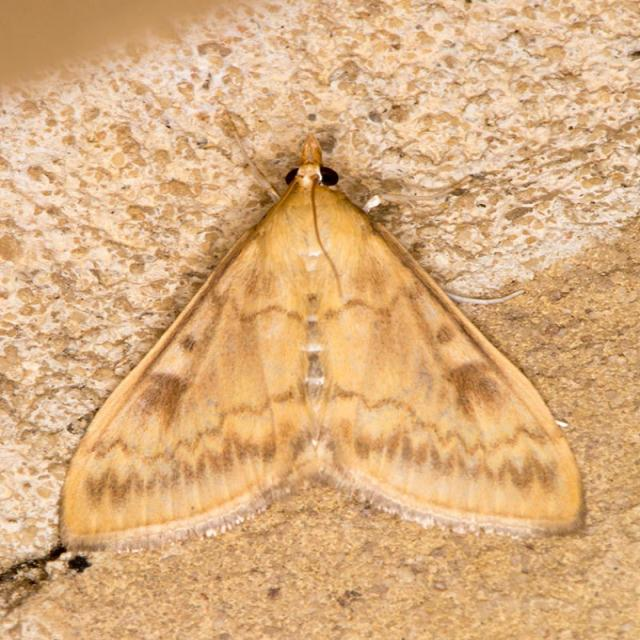cornborer-Adult-: (46, 125, 599, 564)
